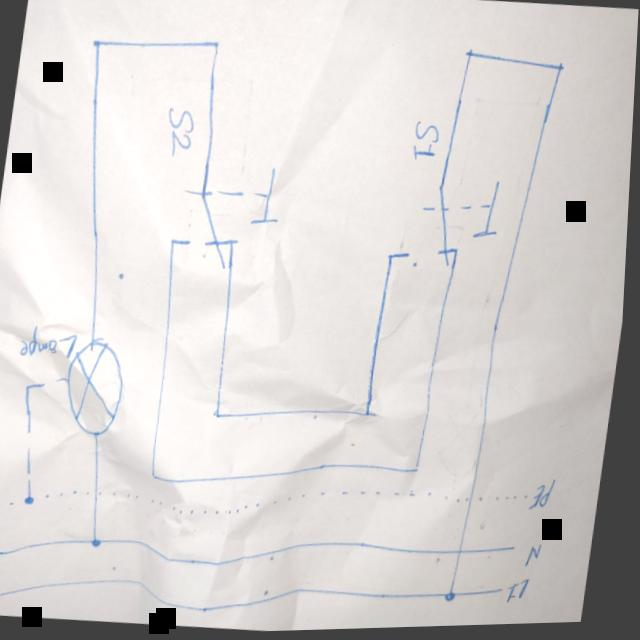crossover: (90, 488, 108, 499), (470, 493, 482, 507), (460, 549, 470, 560)
junction: (93, 532, 110, 552), (89, 35, 106, 54), (208, 36, 224, 56), (363, 408, 380, 424), (449, 591, 464, 608), (554, 62, 567, 80), (464, 48, 477, 65), (386, 252, 400, 267), (27, 493, 40, 506), (215, 408, 227, 422), (25, 381, 37, 395), (229, 238, 243, 249), (153, 470, 164, 483), (170, 237, 180, 248), (417, 466, 426, 477), (454, 249, 461, 259)
switch: (174, 159, 289, 277), (405, 174, 507, 279)
terminal: (1, 588, 13, 601), (501, 587, 512, 600), (514, 545, 524, 558), (0, 547, 9, 560), (526, 496, 534, 504), (0, 502, 3, 511)
text: (20, 322, 82, 363), (162, 106, 198, 161), (410, 120, 444, 165), (531, 478, 563, 517), (509, 576, 538, 611), (528, 544, 549, 573)
